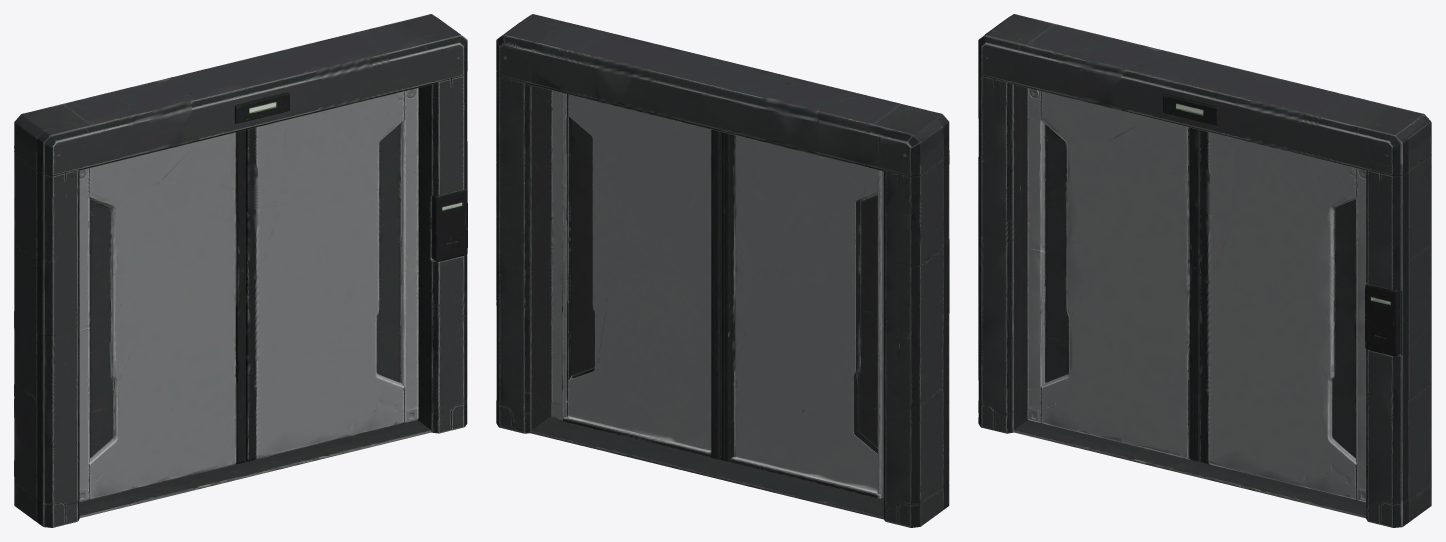
File: Meshy_AI_Secure_Access_Door_0925012127_texture.fbx
3 views of the same model, side by side, from view 1: azimuth 30°, elevation 25°; view 2: azimuth 150°, elevation 25°; view 3: azimuth 330°, elevation 25° (orthographic).
Visible parts, largest first — view 1: Mesh_0; view 2: Mesh_0; view 3: Mesh_0.
Part boxes in pixels (<box>): Mesh_0: <box>14,14,467,527</box>; Mesh_0: <box>496,14,949,527</box>; Mesh_0: <box>978,14,1431,527</box>.
Bounding box in the file's own units: 189 × 167 × 28.52.
1 material, 1 textured.
